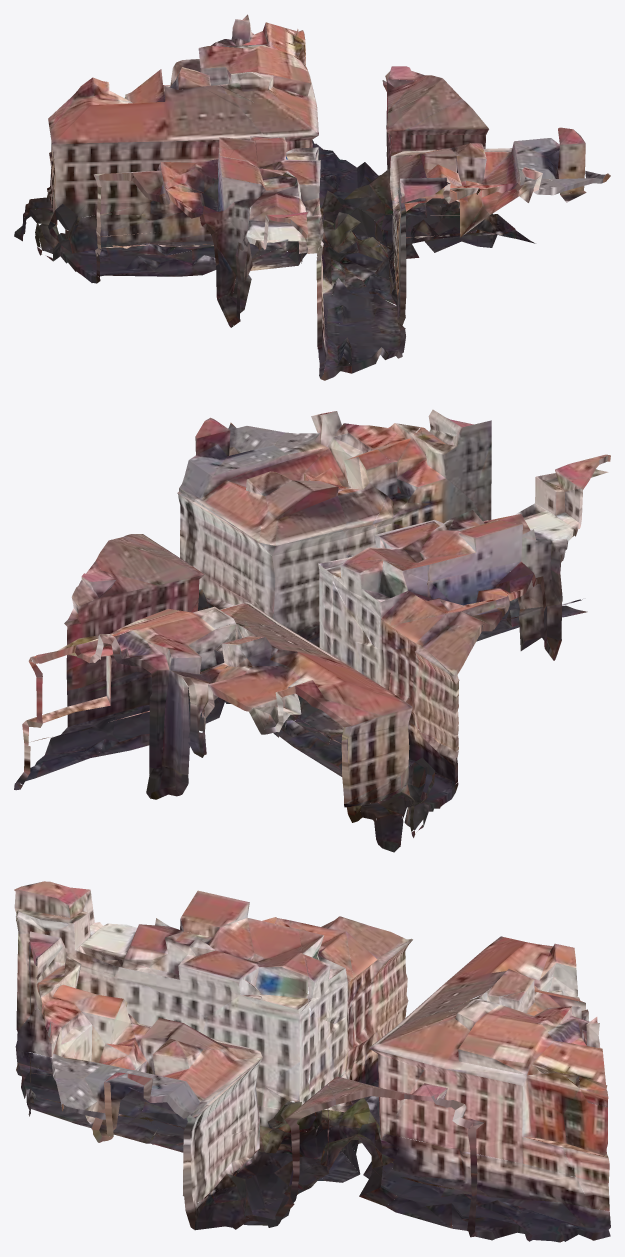
3 renders of one model, top to bottom at view 1: azimuth 30°, elevation 25°; view 2: azimuth 150°, elevation 25°; view 3: azimuth 270°, elevation 25°, orthographic. The views are drawn at different scales.
Parts seen in each view (by area): view 1: Mesh_0; view 2: Mesh_0; view 3: Mesh_0.
Boxes of the visible parts, x1,y1,x2,y2 form: Mesh_0: [14, 14, 610, 380]; Mesh_0: [14, 409, 610, 852]; Mesh_0: [14, 881, 610, 1242].
Size of the model in its own units: 67.15 by 32.77 by 82.67.
Materials: 2 (2 with a texture image).
